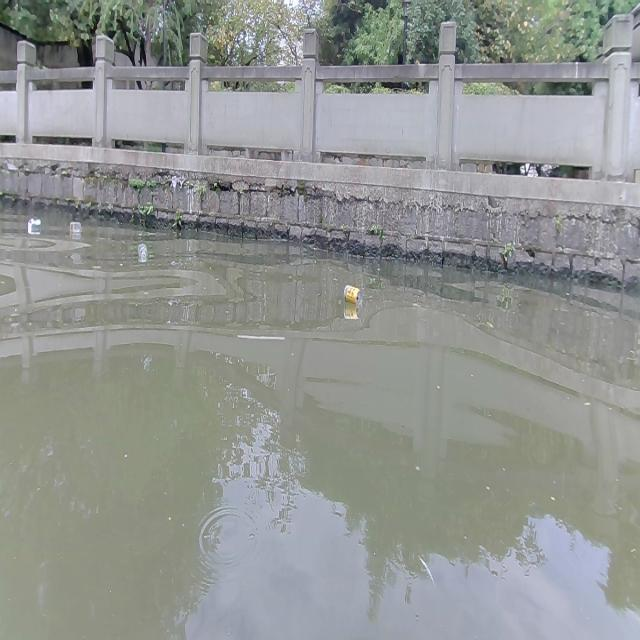bottle: (343, 284, 362, 304), (137, 242, 147, 257), (68, 220, 80, 232), (27, 217, 41, 227)
